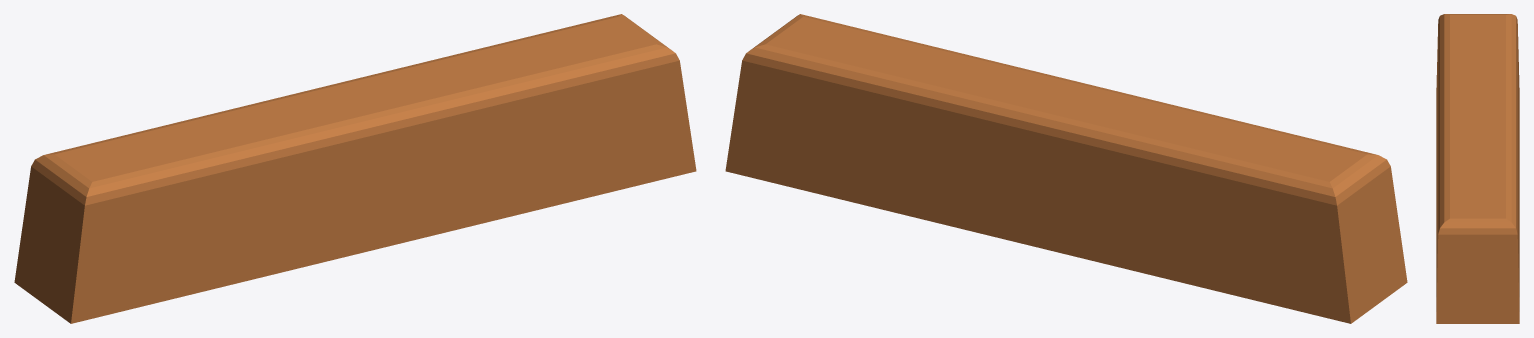
The model's file is Stone bench.fbx.
The picture shows the model from 3 angles, left to right: view 1: azimuth 30°, elevation 25°; view 2: azimuth 150°, elevation 25°; view 3: azimuth 270°, elevation 25°; orthographic projection. The views are drawn at different scales.
Visible parts, largest first — view 1: Stone Bench; view 2: Stone Bench; view 3: Stone Bench.
Part boxes in pixels (left/top/right/bottom): Stone Bench: left=14, top=14, right=696, bottom=323; Stone Bench: left=725, top=14, right=1407, bottom=323; Stone Bench: left=1436, top=14, right=1519, bottom=323.
Bounding box in the file's own units: 277 × 54.02 × 43.37.
